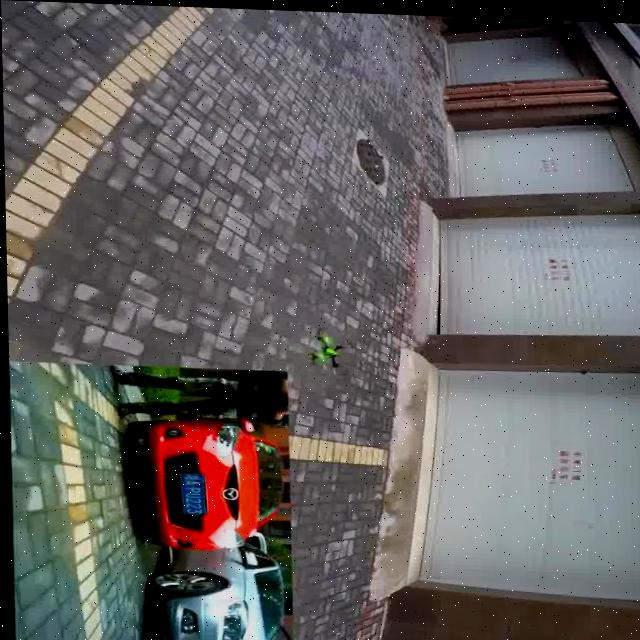drone: (305, 324, 355, 375)
